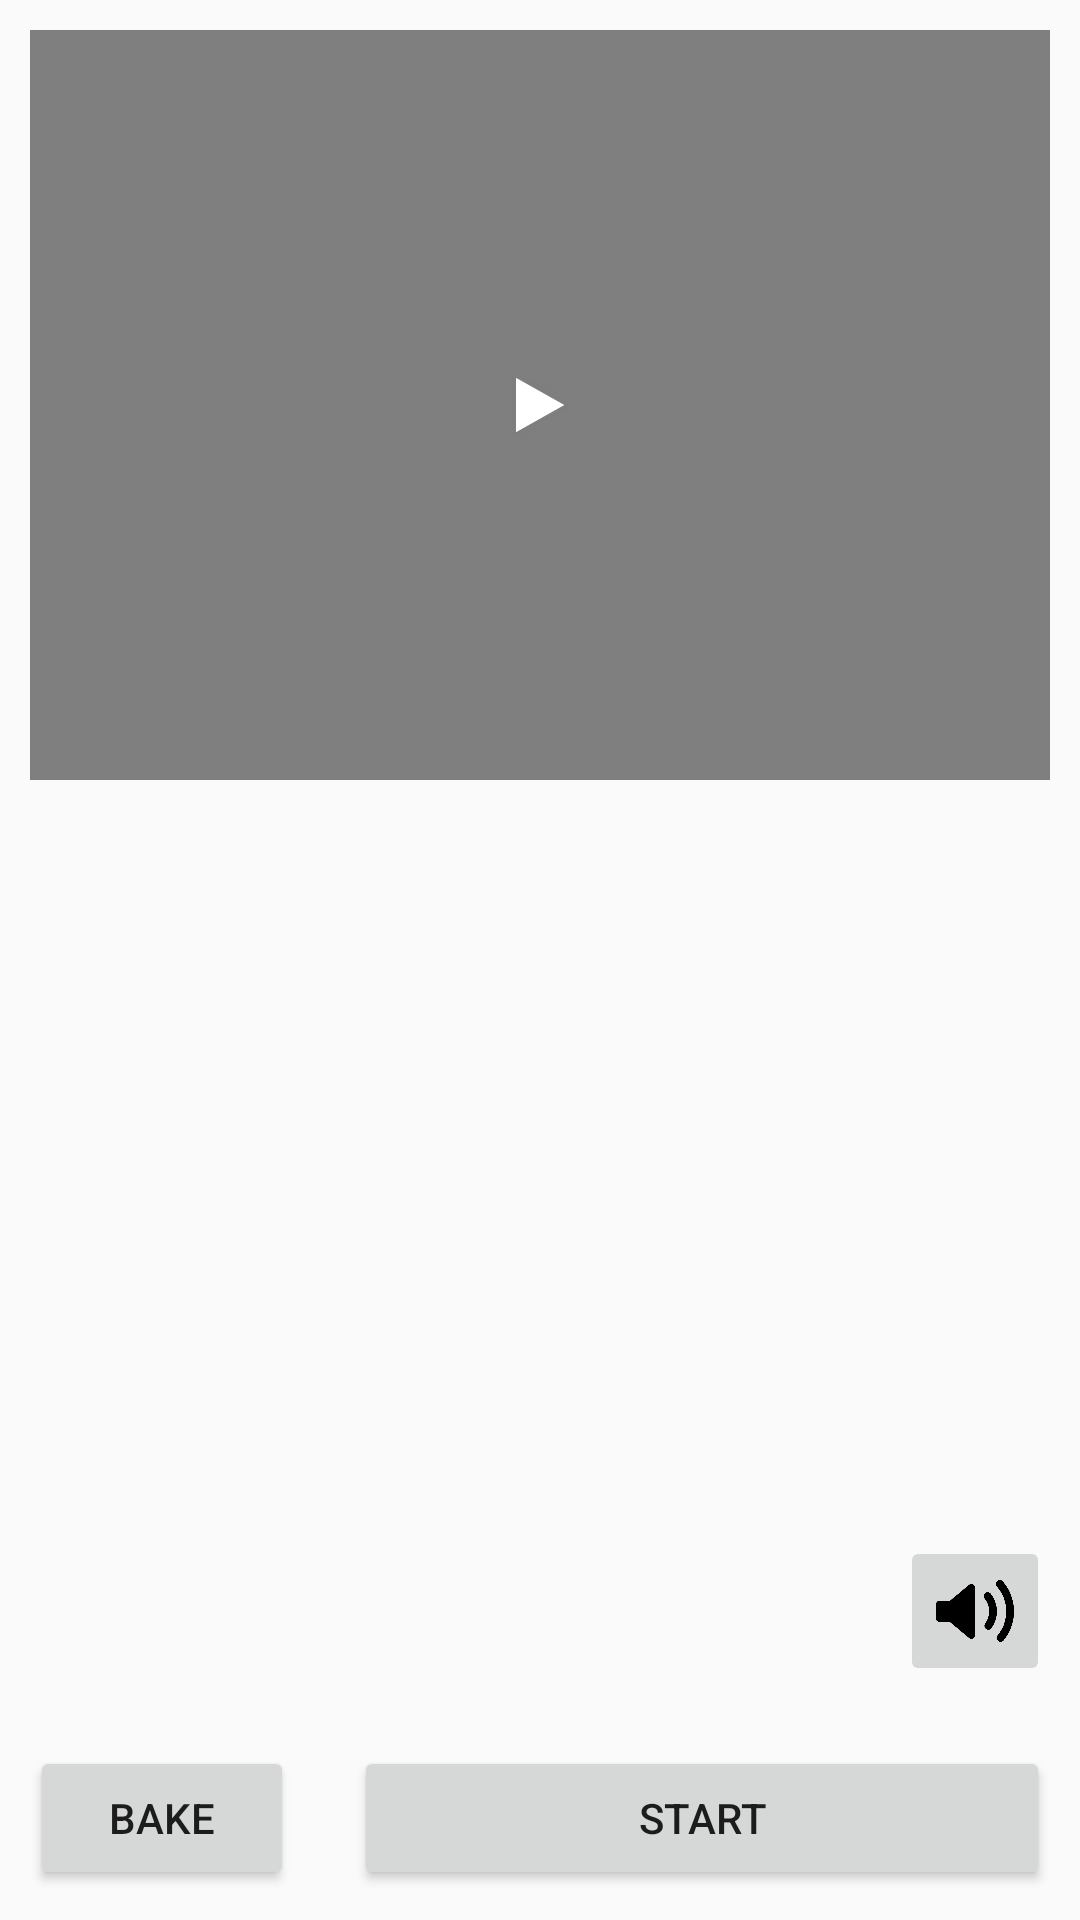

Icon click points for this 1080w x 1920h phone screenshot, format point (x, y):
play: point (540, 405)
sound: point (975, 1611)
